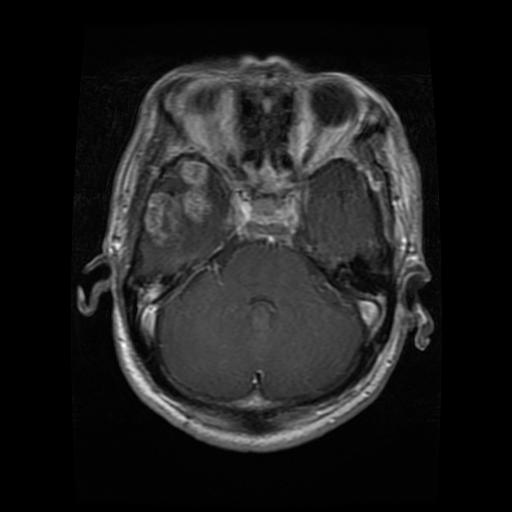Gliomia_tumour: (143, 160, 217, 250)
